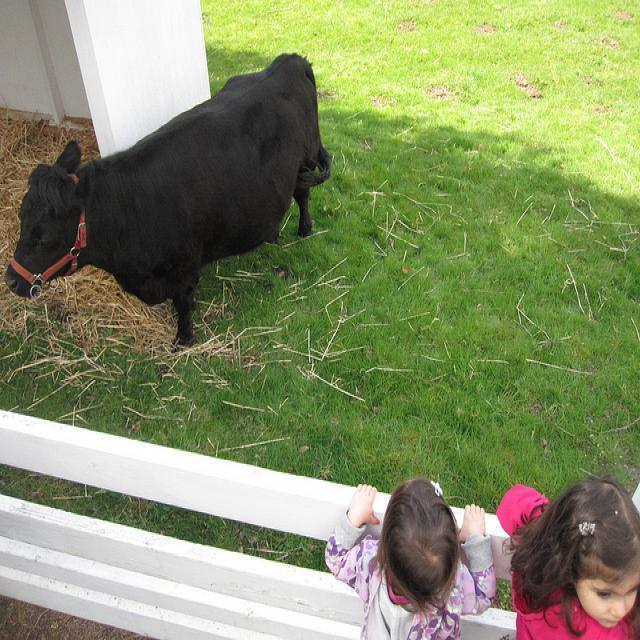cow: (6, 47, 336, 351)
